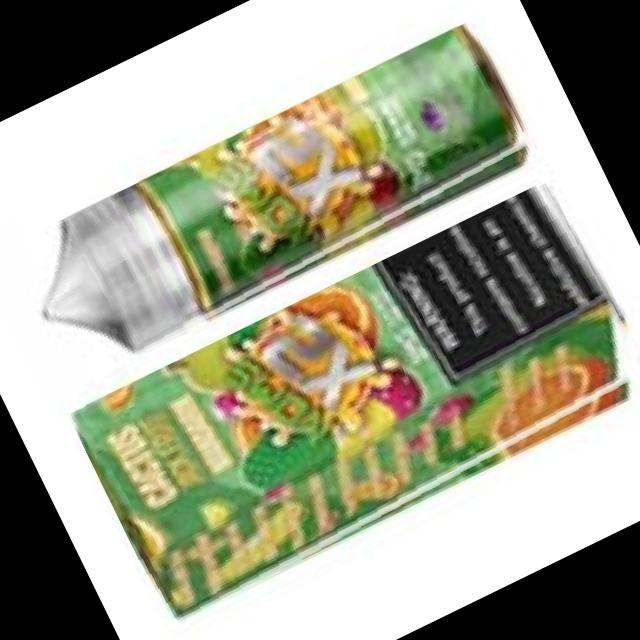Hazard: (67, 174, 640, 627), (6, 19, 539, 388)
